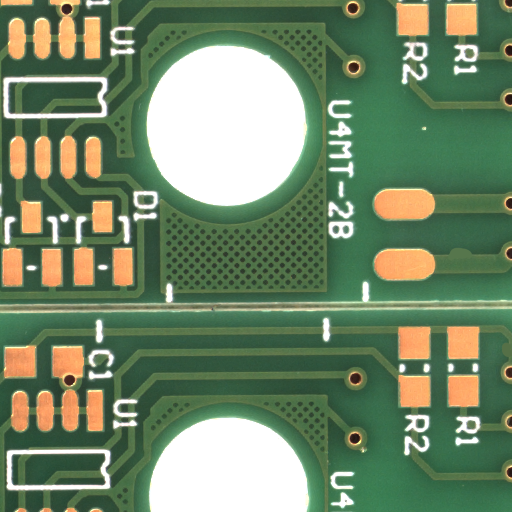Spur: (459, 253, 490, 265), (504, 349, 512, 366)
